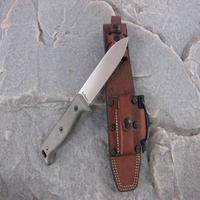knife: (42, 20, 134, 166)
